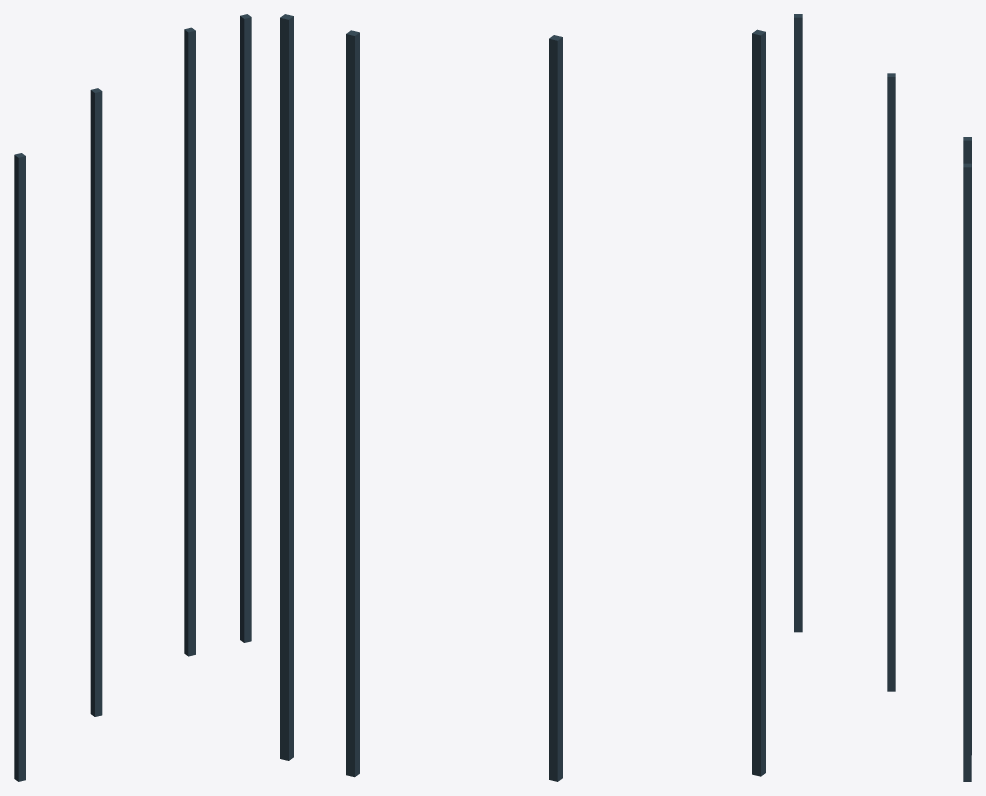
The model's file is v02-transit-world-01-01-01.glb.
The picture shows the model from 3 angles, left to right: view 1: azimuth 30°, elevation 25°; view 2: azimuth 150°, elevation 25°; view 3: azimuth 270°, elevation 25°; orthographic projection. The views are drawn at different scales.
Visible parts, largest first — view 1: v02-transit-world-01-01-01; view 2: v02-transit-world-01-01-01; view 3: v02-transit-world-01-01-01.
Boxes of the visible parts, <box> form: v02-transit-world-01-01-01: <box>14,14,251,781</box>; v02-transit-world-01-01-01: <box>280,14,765,781</box>; v02-transit-world-01-01-01: <box>794,14,971,781</box>.
Bounding box in the file's own units: 51.5 × 96.25 × 25.23.
